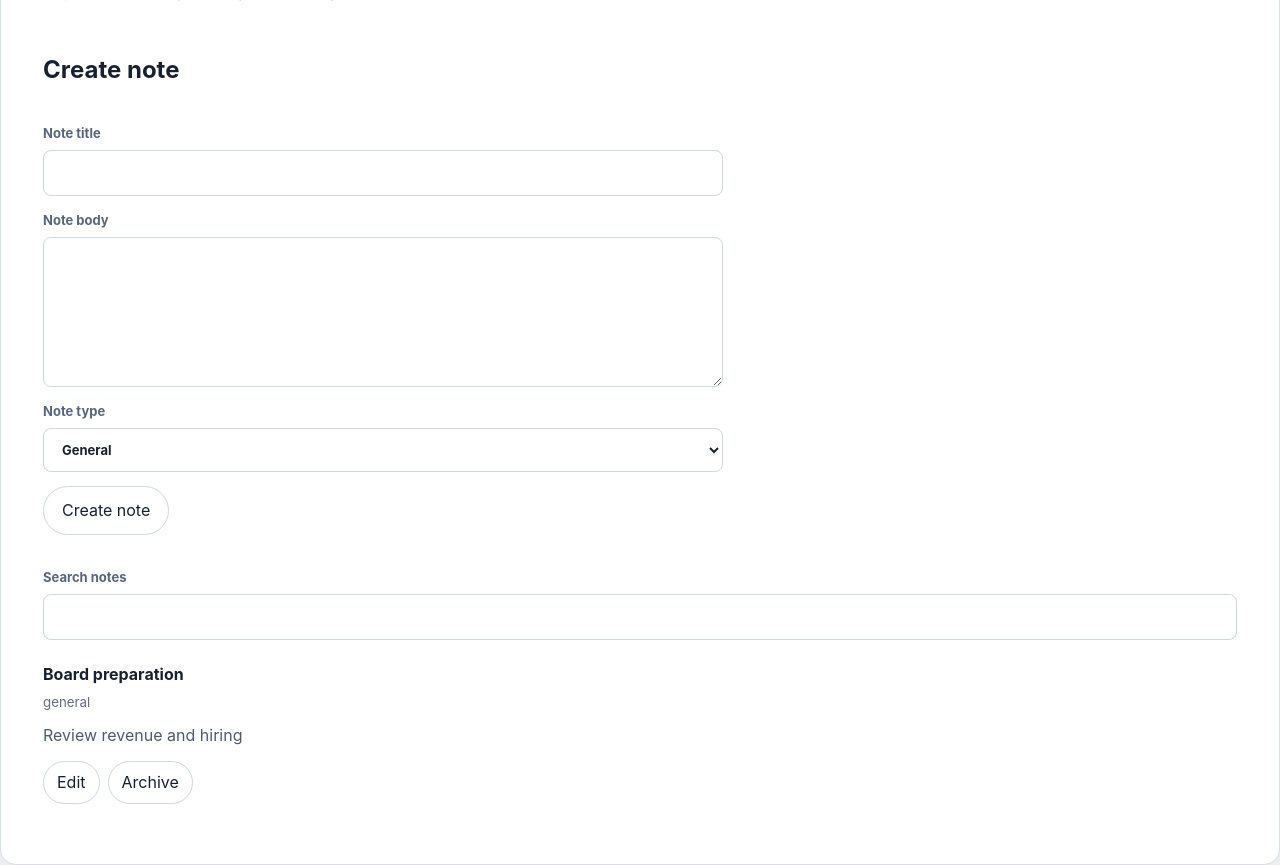
Scenario: NoteWorkspace › flushes a pending draft before closing the editor
(page scrolled)
Click the button with aria-label "Edit Board preparation" at (71, 783), box [43, 762, 100, 804]
(page scrolled)
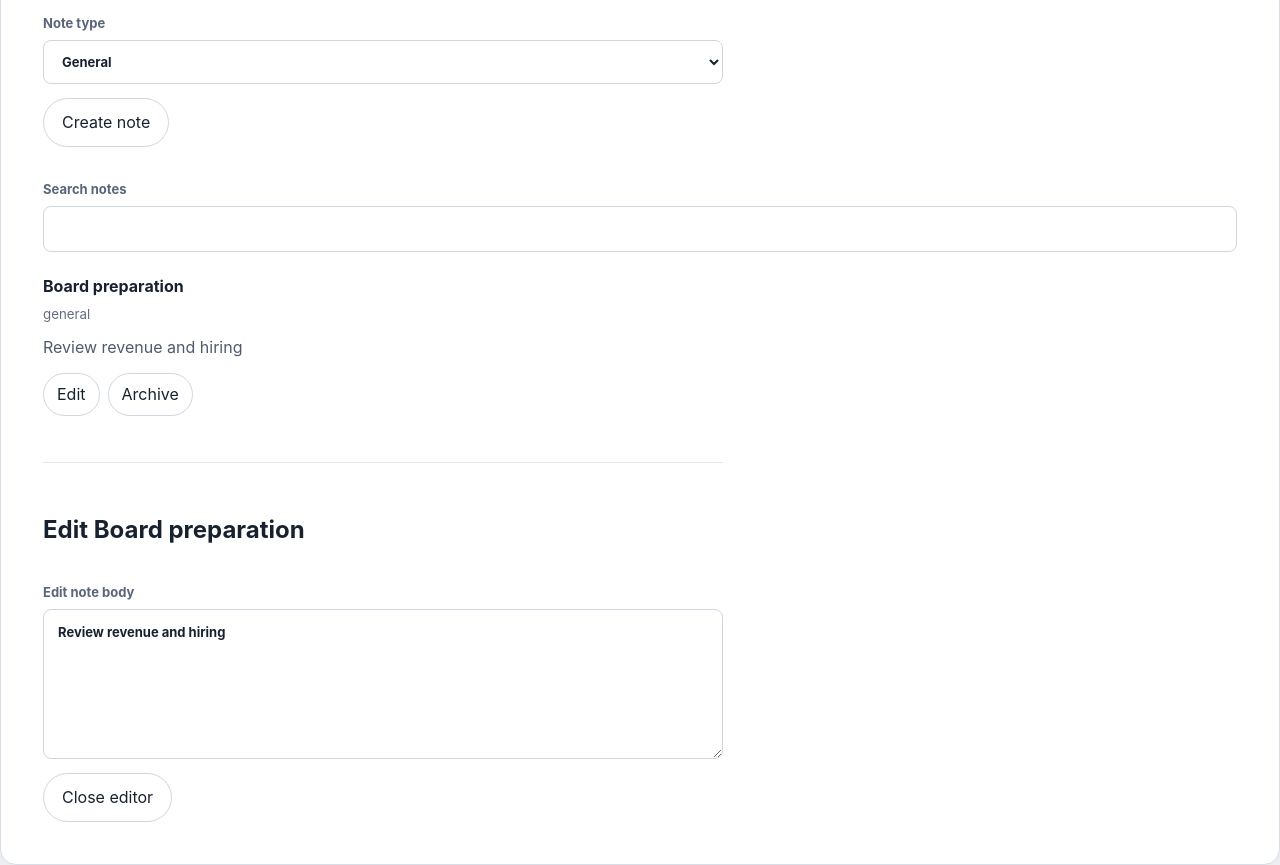
Replace the text in the text box labelled "Edit note body" with "Close-safe draft" at (383, 684), box [43, 609, 723, 759]
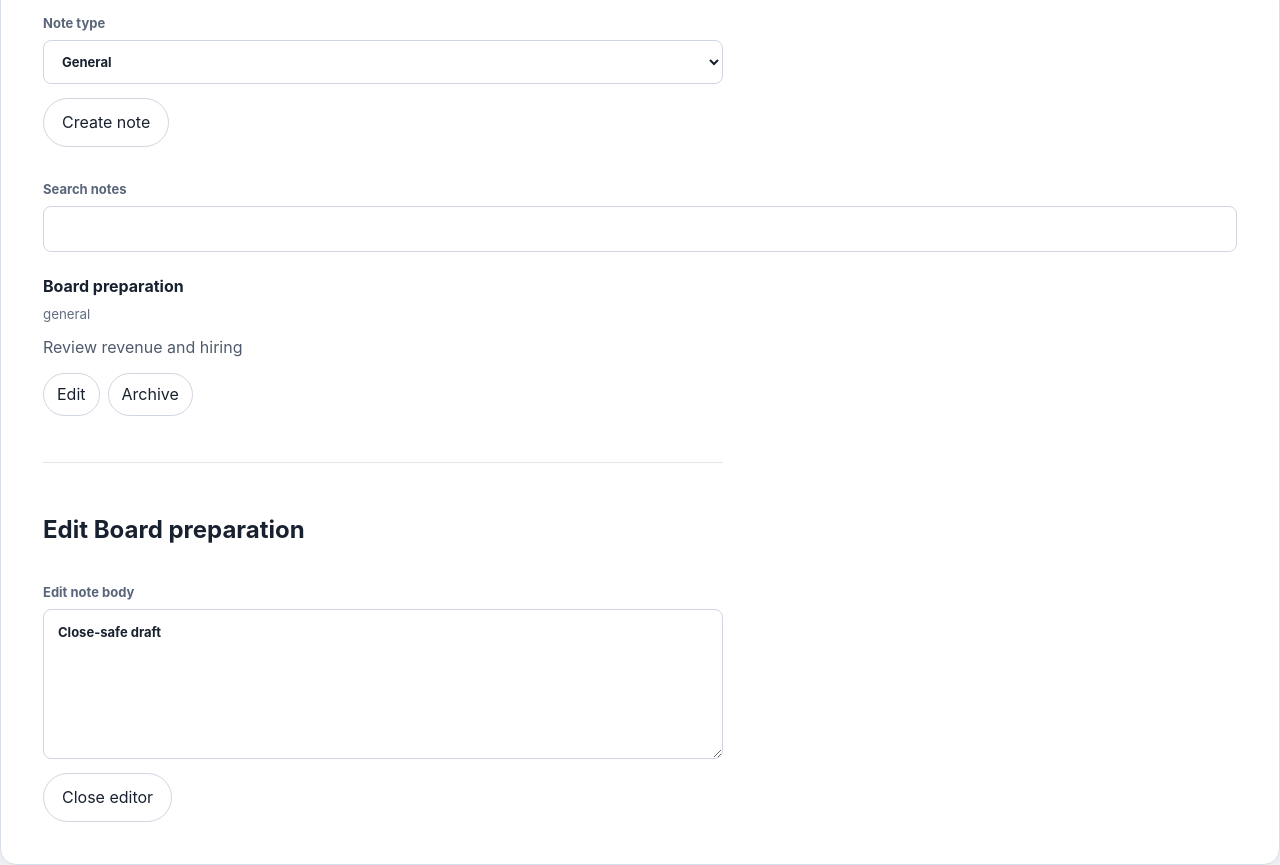
Click the button "Close editor" at (108, 798), box [43, 773, 172, 822]
(page scrolled)
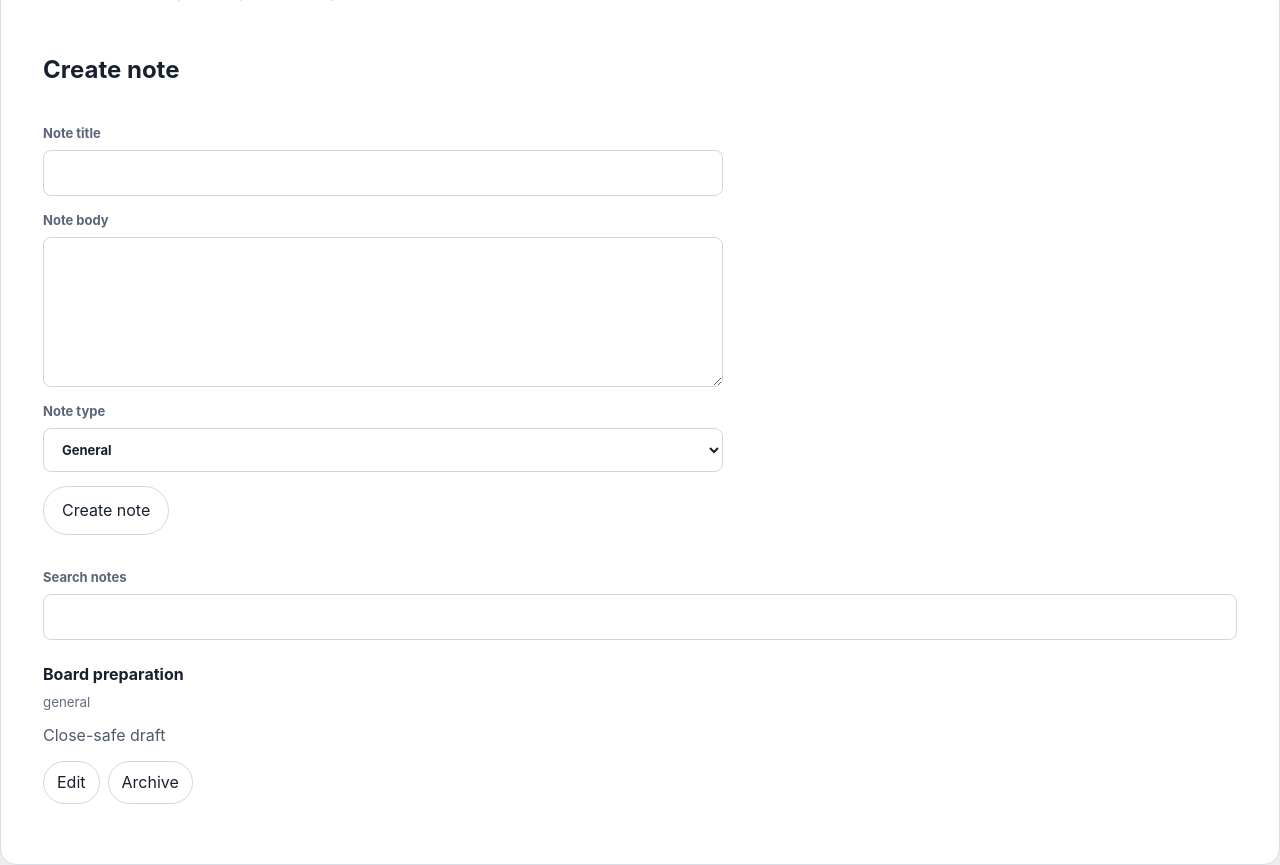
Expected: the label labelled "Edit note body" is gone
